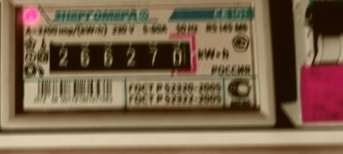0: (173, 48, 185, 65)
2: (58, 47, 71, 65), (127, 47, 138, 65)
6: (81, 48, 93, 66), (104, 49, 116, 67)
7: (150, 47, 161, 65)
screen: (40, 30, 204, 82)
